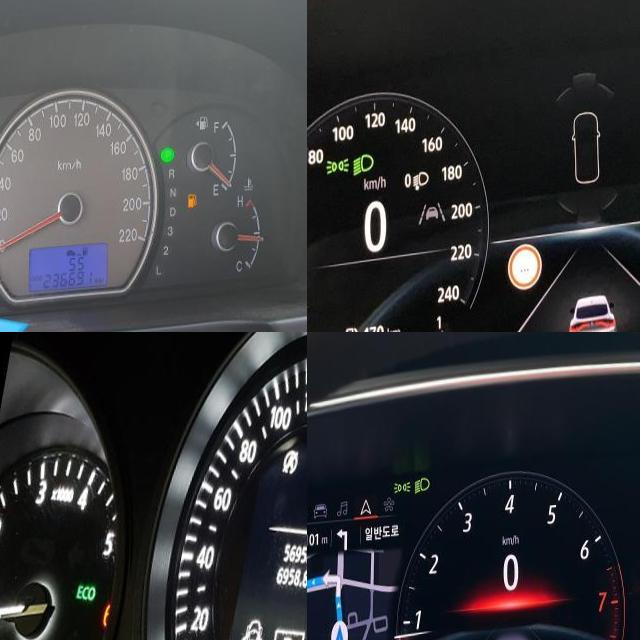Low beam: (352, 153, 373, 179), (413, 479, 429, 498)
Low fuel level: (186, 200, 196, 217)
SideLamp: (325, 158, 349, 176), (392, 484, 409, 499)
